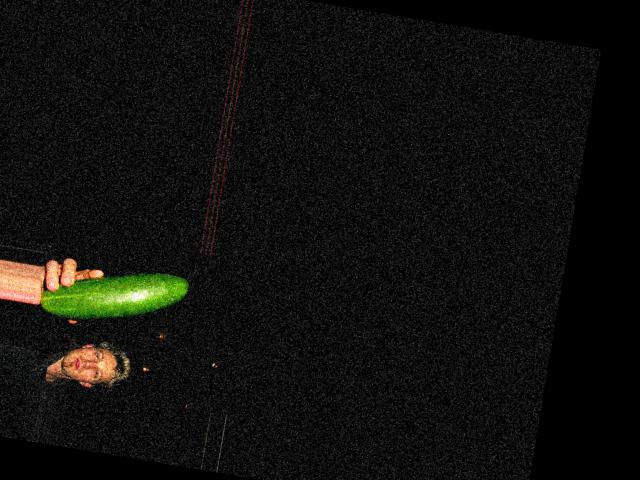cucumber: (40, 253, 189, 335)
